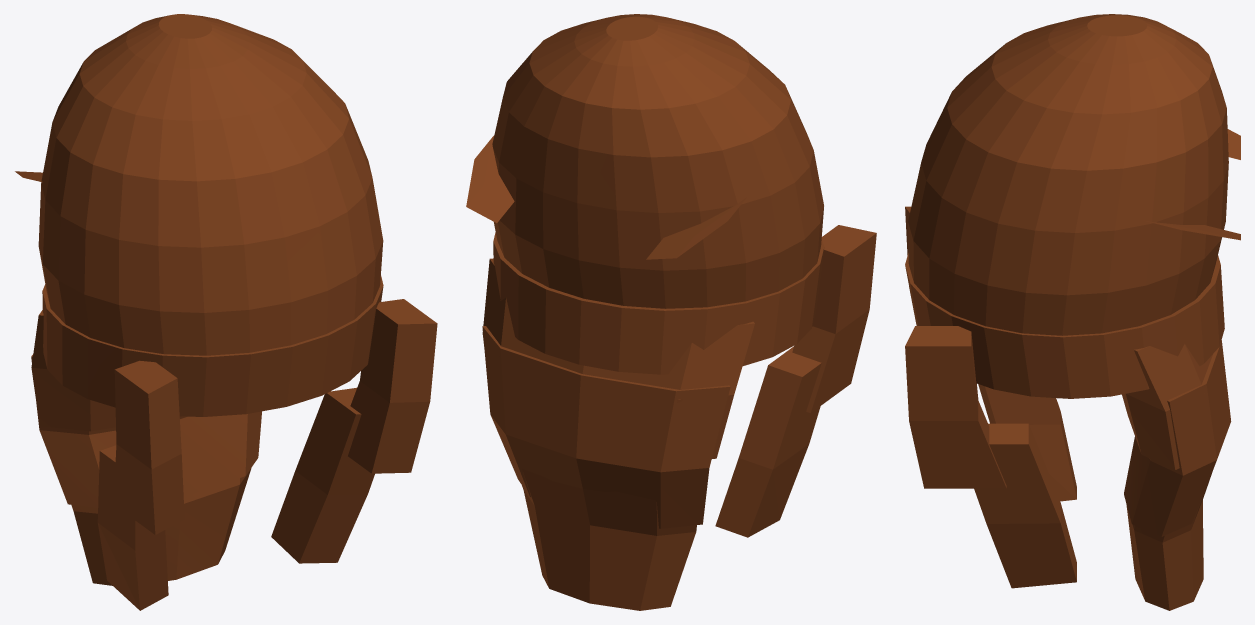
File: hair_girl_long_layers_01.glb
3 renders of one model, left to right at view 1: azimuth 30°, elevation 25°; view 2: azimuth 150°, elevation 25°; view 3: azimuth 270°, elevation 25°, orthographic. The views are drawn at different scales.
Parts seen in each view (by area): view 1: Layers_Crown_Cap, Layers_Scalp_Collar, Layers_Face_Frame_R_1, Layers_Face_Frame_R_2, Layers_Face_Frame_L_1, Layers_Back_Mid, Layers_Back_Lower, Layers_Face_Frame_L_2, Layers_Back_Upper; view 2: Layers_Crown_Cap, Layers_Back_Mid, Layers_Scalp_Collar, Layers_Back_Lower, Layers_Face_Frame_L_2, Layers_Face_Frame_L_1, Layers_Back_Upper, Layers_Crown_Sweep_R, Layers_Crown_Sweep_L; view 3: Layers_Crown_Cap, Layers_Scalp_Collar, Layers_Face_Frame_R_1, Layers_Face_Frame_R_2, Layers_Back_Mid, Layers_Back_Upper, Layers_Back_Lower, Layers_Face_Frame_L_2, Layers_Crown_Sweep_R.
Part boxes in pixels (bbox=[...]): Layers_Crown_Cap: bbox=[38, 14, 383, 355]; Layers_Scalp_Collar: bbox=[42, 276, 383, 416]; Layers_Face_Frame_R_1: bbox=[348, 299, 437, 473]; Layers_Face_Frame_R_2: bbox=[271, 387, 374, 563]; Layers_Face_Frame_L_1: bbox=[113, 360, 184, 534]; Layers_Back_Mid: bbox=[31, 354, 261, 507]; Layers_Back_Lower: bbox=[71, 468, 251, 585]; Layers_Face_Frame_L_2: bbox=[97, 445, 168, 610]; Layers_Back_Upper: bbox=[31, 310, 181, 431]; Layers_Crown_Cap: bbox=[492, 14, 823, 308]; Layers_Back_Mid: bbox=[482, 326, 730, 528]; Layers_Scalp_Collar: bbox=[493, 232, 824, 374]; Layers_Back_Lower: bbox=[522, 469, 696, 610]; Layers_Face_Frame_L_2: bbox=[715, 346, 821, 537]; Layers_Face_Frame_L_1: bbox=[792, 225, 876, 413]; Layers_Back_Upper: bbox=[482, 258, 754, 458]; Layers_Crown_Sweep_R: bbox=[466, 135, 514, 223]; Layers_Crown_Sweep_L: bbox=[646, 197, 746, 259]; Layers_Crown_Cap: bbox=[908, 14, 1228, 335]; Layers_Scalp_Collar: bbox=[905, 253, 1224, 398]; Layers_Face_Frame_R_1: bbox=[905, 326, 1006, 488]; Layers_Face_Frame_R_2: bbox=[974, 423, 1076, 588]; Layers_Back_Mid: bbox=[1124, 340, 1231, 536]; Layers_Back_Upper: bbox=[1122, 344, 1212, 469]; Layers_Back_Lower: bbox=[1126, 473, 1211, 610]; Layers_Face_Frame_L_2: bbox=[978, 384, 1076, 501]; Layers_Crown_Sweep_R: bbox=[1141, 220, 1240, 240].
Bounding box in the file's own units: 0.346 × 0.607 × 0.334.
